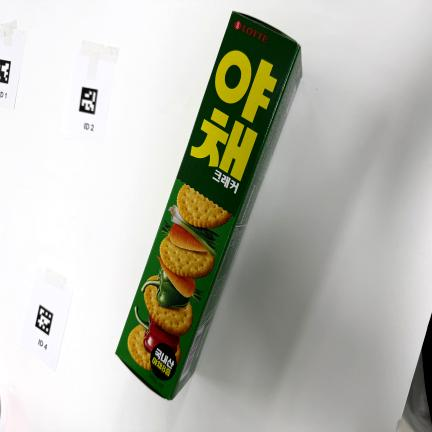cracker_vege: (116, 12, 302, 399)
